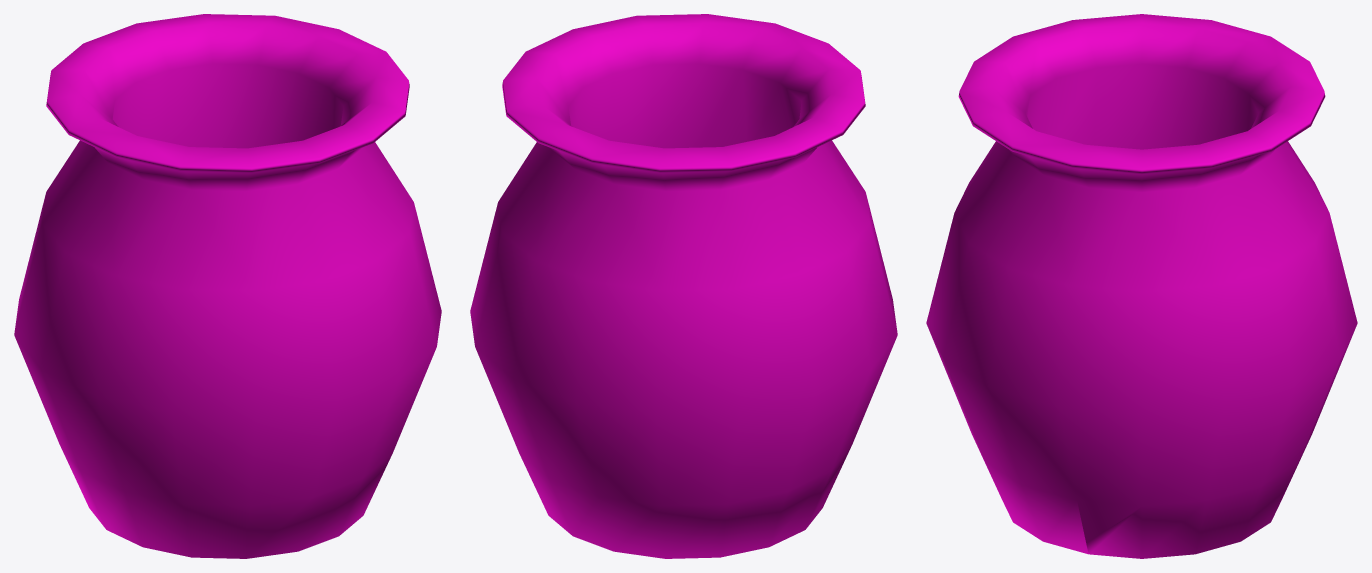
Rendered from Jar_02.fbx.
3 renders of one model, left to right at view 1: azimuth 30°, elevation 25°; view 2: azimuth 150°, elevation 25°; view 3: azimuth 270°, elevation 25°, orthographic.
Visible parts, largest first — view 1: Jar_02; view 2: Jar_02; view 3: Jar_02.
Boxes of the visible parts, x1=… form: Jar_02: x1=14, y1=14, x2=441, y2=558; Jar_02: x1=470, y1=14, x2=897, y2=558; Jar_02: x1=926, y1=14, x2=1357, y2=558.
Size of the model in its own units: 46.73 by 49.39 by 46.73.
